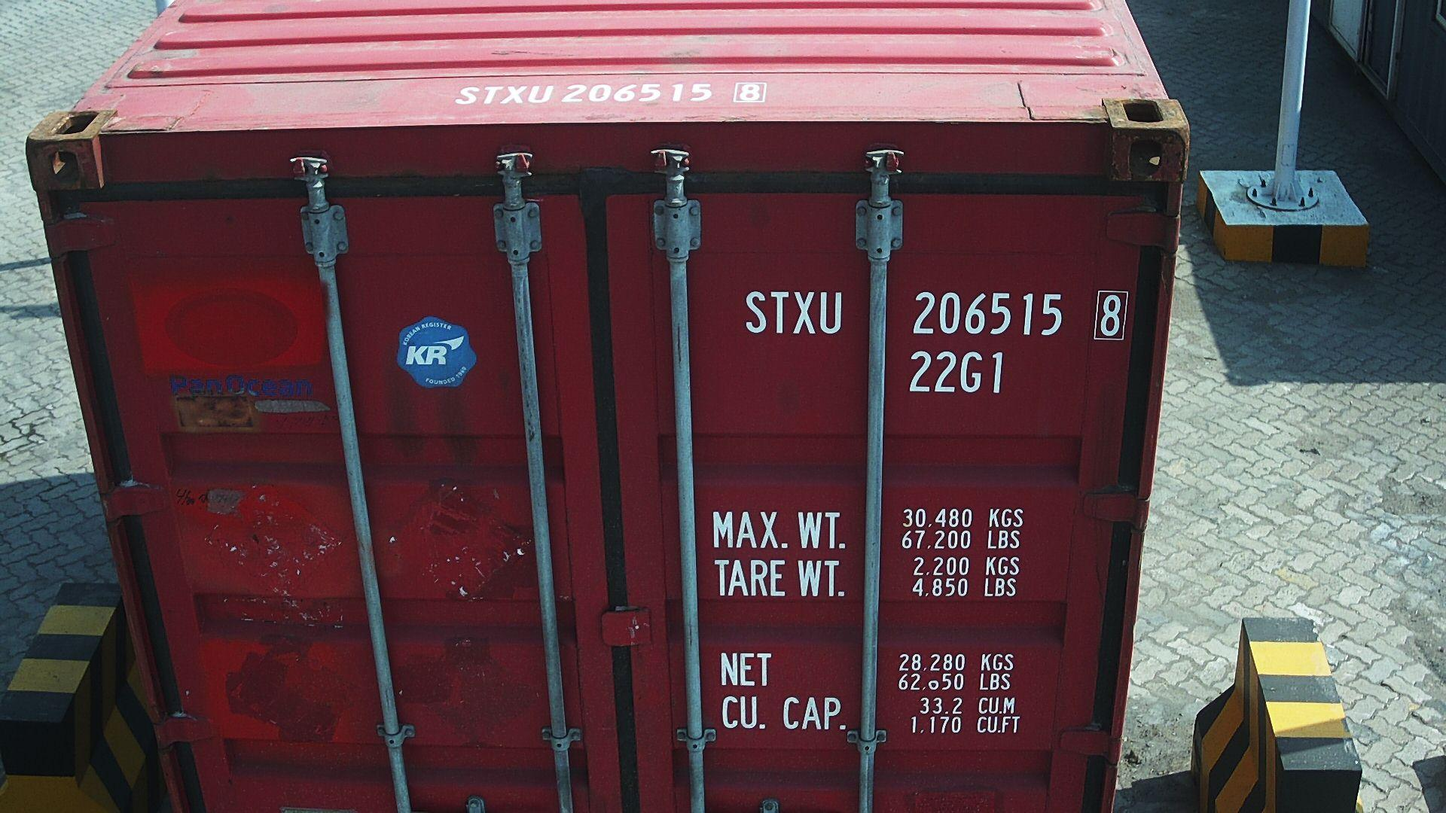container-numbers: (740, 285, 1132, 343), (450, 80, 775, 108), (904, 346, 1010, 397)
